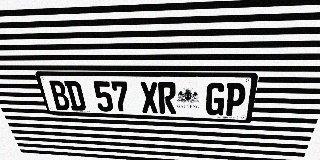5: (93, 81, 114, 112)
7: (110, 81, 131, 112)
B: (47, 80, 71, 110)
D: (64, 81, 87, 111)
G: (205, 82, 226, 116)
P: (223, 83, 247, 116)
R: (158, 82, 176, 114)
X: (139, 82, 159, 113)
